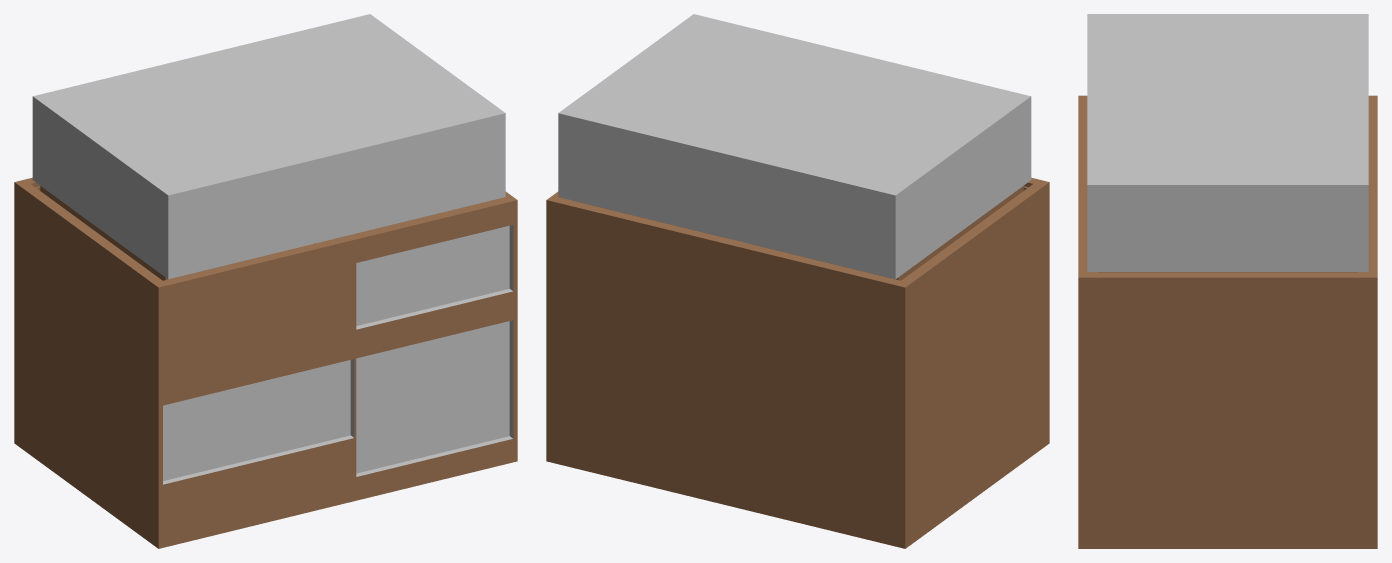
The model's file is DISPLAY 2.fbx.
The picture shows the model from 3 angles, left to right: view 1: azimuth 30°, elevation 25°; view 2: azimuth 150°, elevation 25°; view 3: azimuth 270°, elevation 25°; orthographic projection. The views are drawn at different scales.
Visible parts, largest first — view 1: Cube, Cube_1, Cube_2, inner_corener; view 2: Cube, Cube_1; view 3: Cube, Cube_1.
Part boxes in pixels (left/top/right/bottom): Cube: left=14, top=177, right=517, bottom=548; Cube_1: left=32, top=14, right=505, bottom=279; Cube_2: left=163, top=225, right=509, bottom=480; inner_corener: left=163, top=225, right=513, bottom=484; Cube: left=546, top=177, right=1049, bottom=548; Cube_1: left=558, top=14, right=1031, bottom=279; Cube: left=1078, top=95, right=1377, bottom=548; Cube_1: left=1087, top=14, right=1368, bottom=271.
Size of the model in its own units: 287 by 265 by 200.
